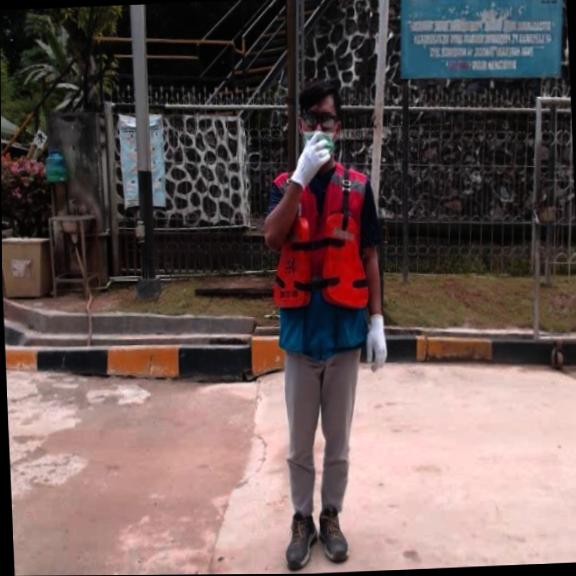safety_vest: (267, 210, 372, 318)
